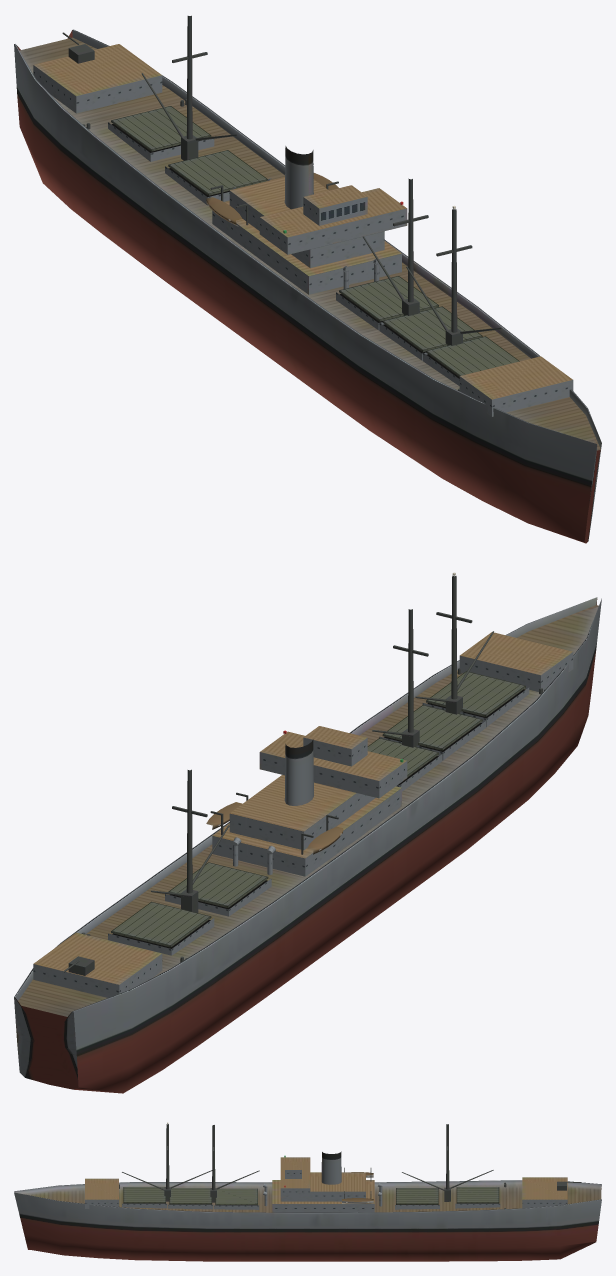
Rendered from cargo.glb.
The picture shows the model from 3 angles, top to bottom: view 1: azimuth 30°, elevation 25°; view 2: azimuth 150°, elevation 25°; view 3: azimuth 270°, elevation 25°; orthographic projection. The views are drawn at different scales.
Parts seen in each view (by area): view 1: hull, hold_hatch_4, hold_hatch_5, hold_hatch_3, hold_hatch_2, hold_hatch_1; view 2: hull, hold_hatch_5, hold_hatch_4, hold_hatch_2, hold_hatch_1, hold_hatch_3; view 3: hull, hold_hatch_5, hold_hatch_4, hold_hatch_1, hold_hatch_3, hold_hatch_2.
Boxes of the visible parts, bbox=[...] form: hull: bbox=[14, 15, 601, 543]; hold_hatch_4: bbox=[168, 150, 267, 195]; hold_hatch_5: bbox=[111, 106, 211, 151]; hold_hatch_3: bbox=[339, 276, 438, 321]; hold_hatch_2: bbox=[382, 306, 482, 351]; hold_hatch_1: bbox=[426, 336, 519, 376]; hull: bbox=[14, 572, 601, 1093]; hold_hatch_5: bbox=[111, 901, 211, 947]; hold_hatch_4: bbox=[168, 862, 268, 907]; hold_hatch_2: bbox=[382, 705, 482, 750]; hold_hatch_1: bbox=[426, 671, 525, 716]; hold_hatch_3: bbox=[367, 738, 438, 777]; hull: bbox=[14, 1122, 601, 1261]; hold_hatch_5: bbox=[456, 1187, 499, 1203]; hold_hatch_4: bbox=[396, 1188, 438, 1204]; hold_hatch_1: bbox=[123, 1187, 165, 1203]; hold_hatch_3: bbox=[215, 1188, 257, 1204]; hold_hatch_2: bbox=[169, 1188, 211, 1204].
Size of the model in its own units: 17.3 by 33.29 by 139.
Materials: 8 (7 with a texture image).
